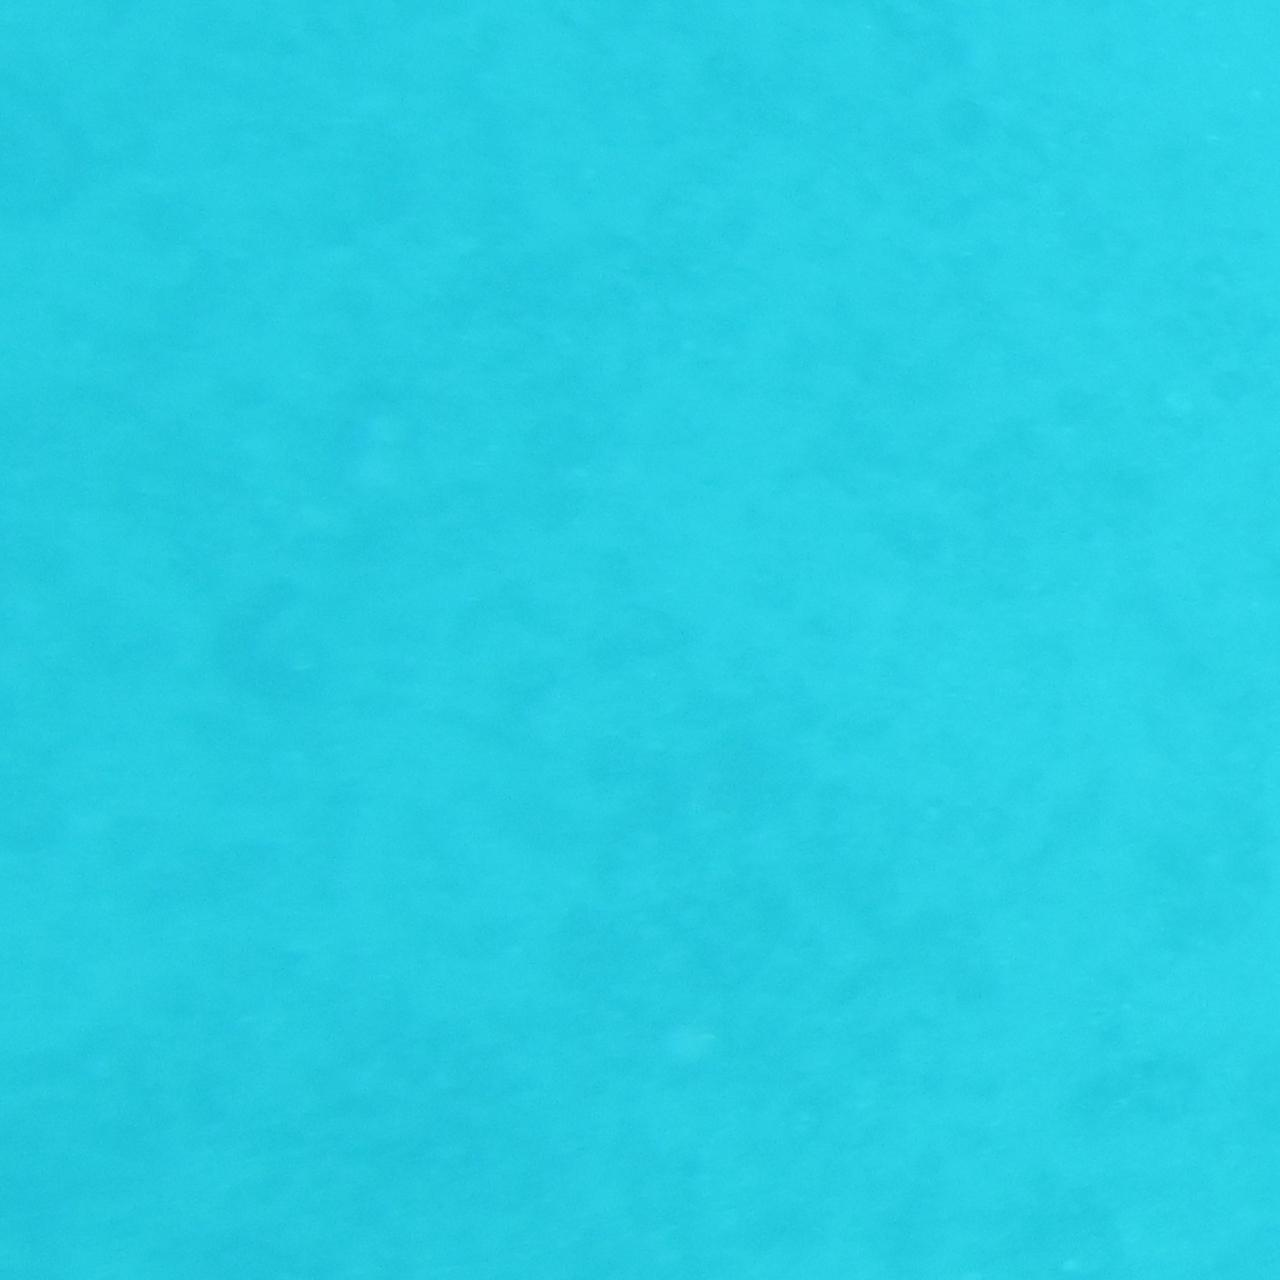Holothuria tubulosa: (196, 571, 322, 709)
